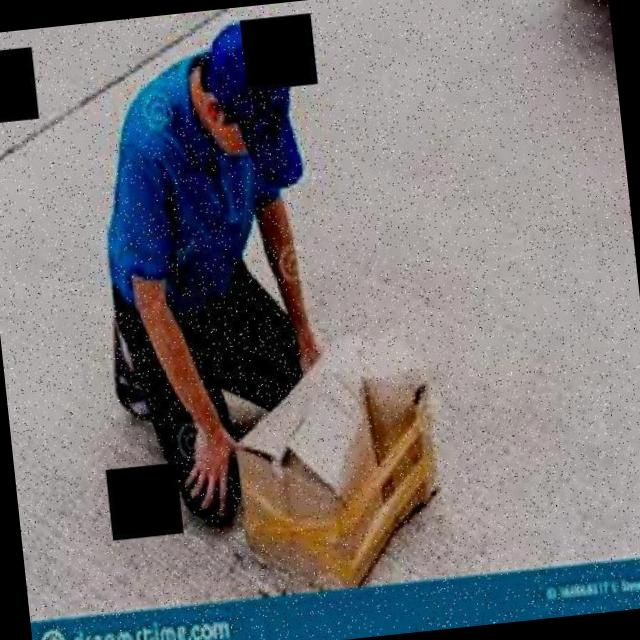box: (213, 320, 466, 602)
